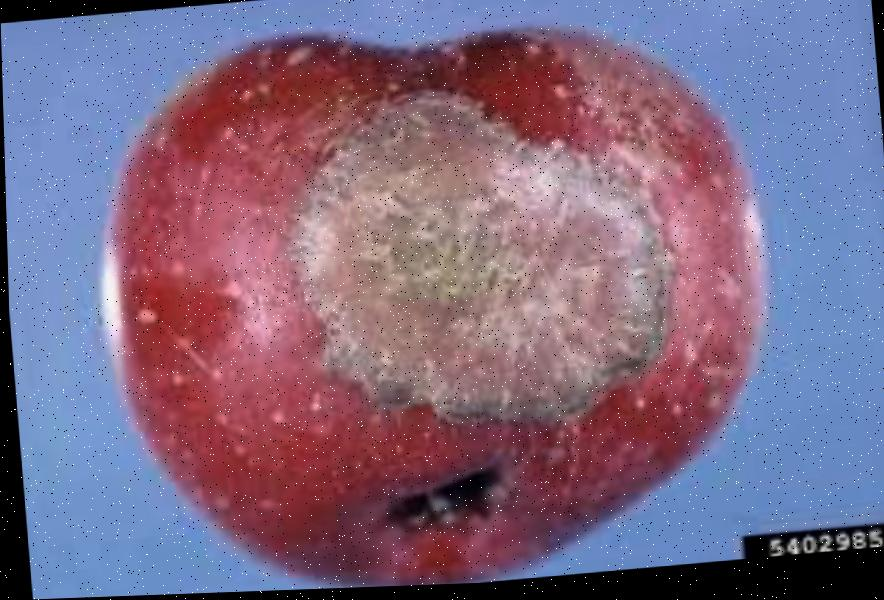ROT: (83, 0, 778, 553)
